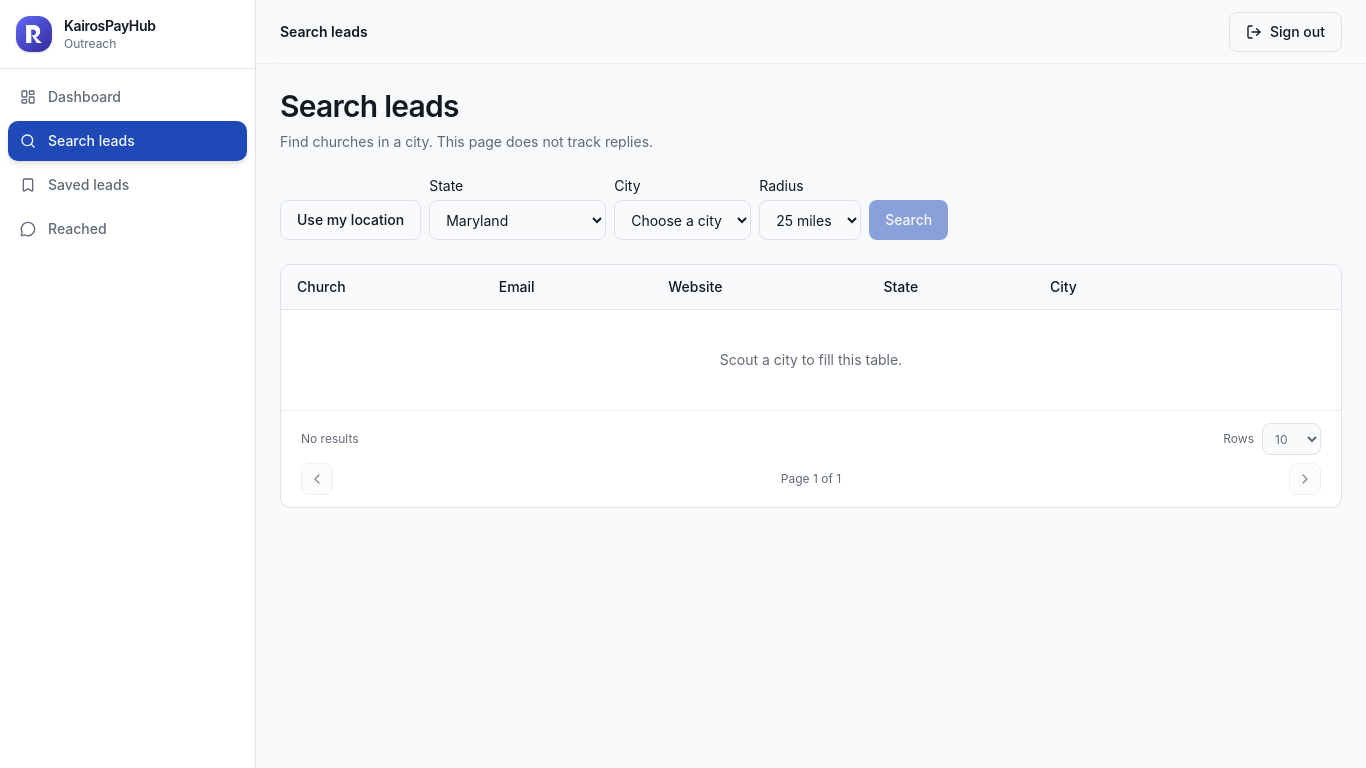
Test case: SuperadminSearchPage › searches into a paged table and opens a lead
expect the button "Use my location" is shown: met, box [280,200,421,240]
Select "Baltimore" in the dropdown labelled "City" at [683, 220], box [614,200,751,240]
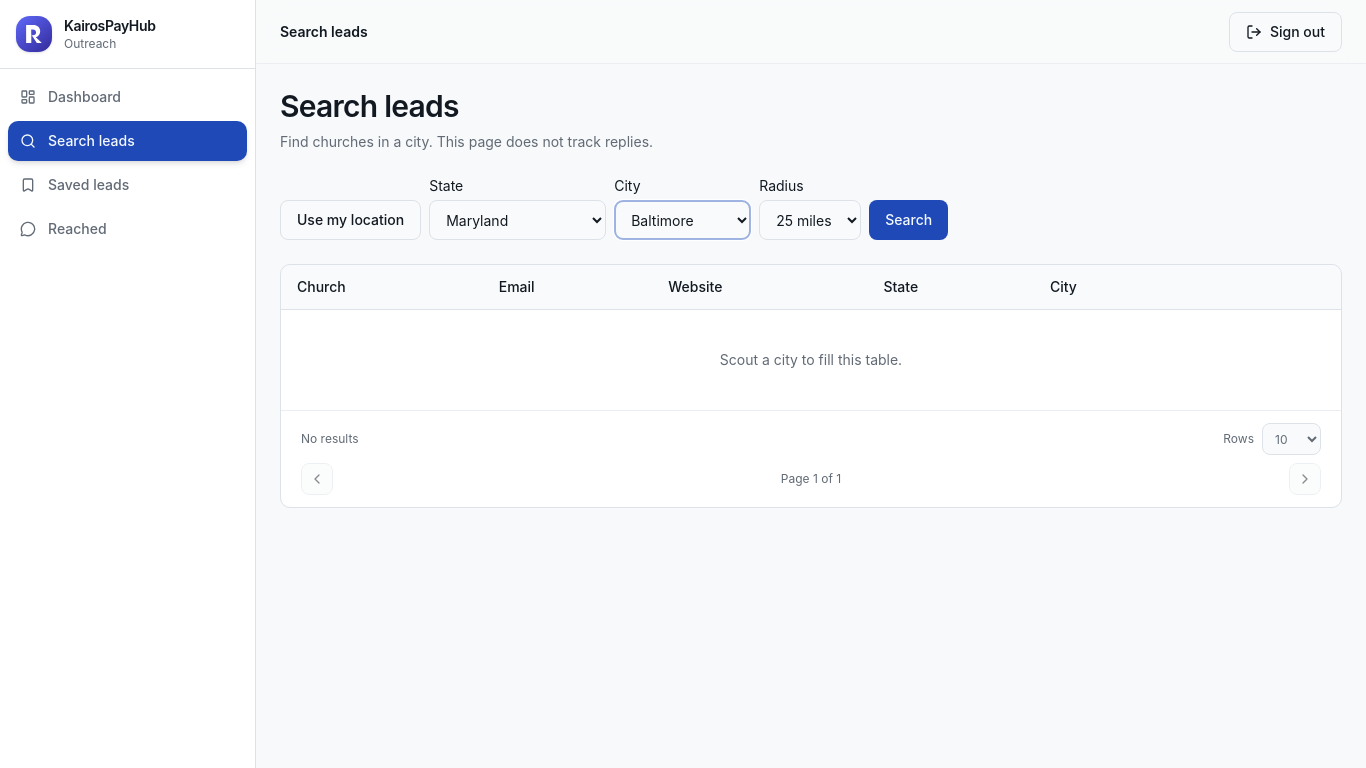
Select "10 miles" in the dropdown labelled "Radius" at [810, 220], box [759,200,861,240]
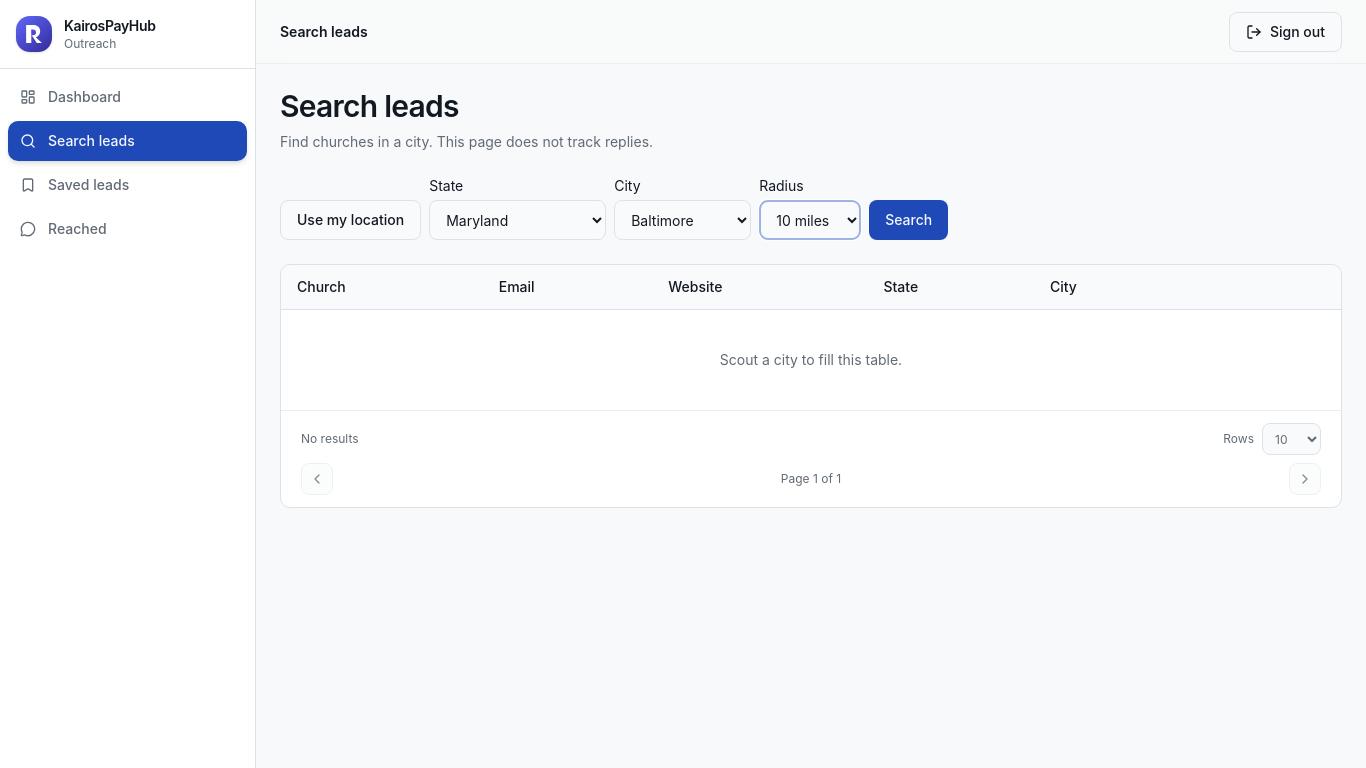
Click the button "Search".
click(909, 220)  # box [869,200,948,240]
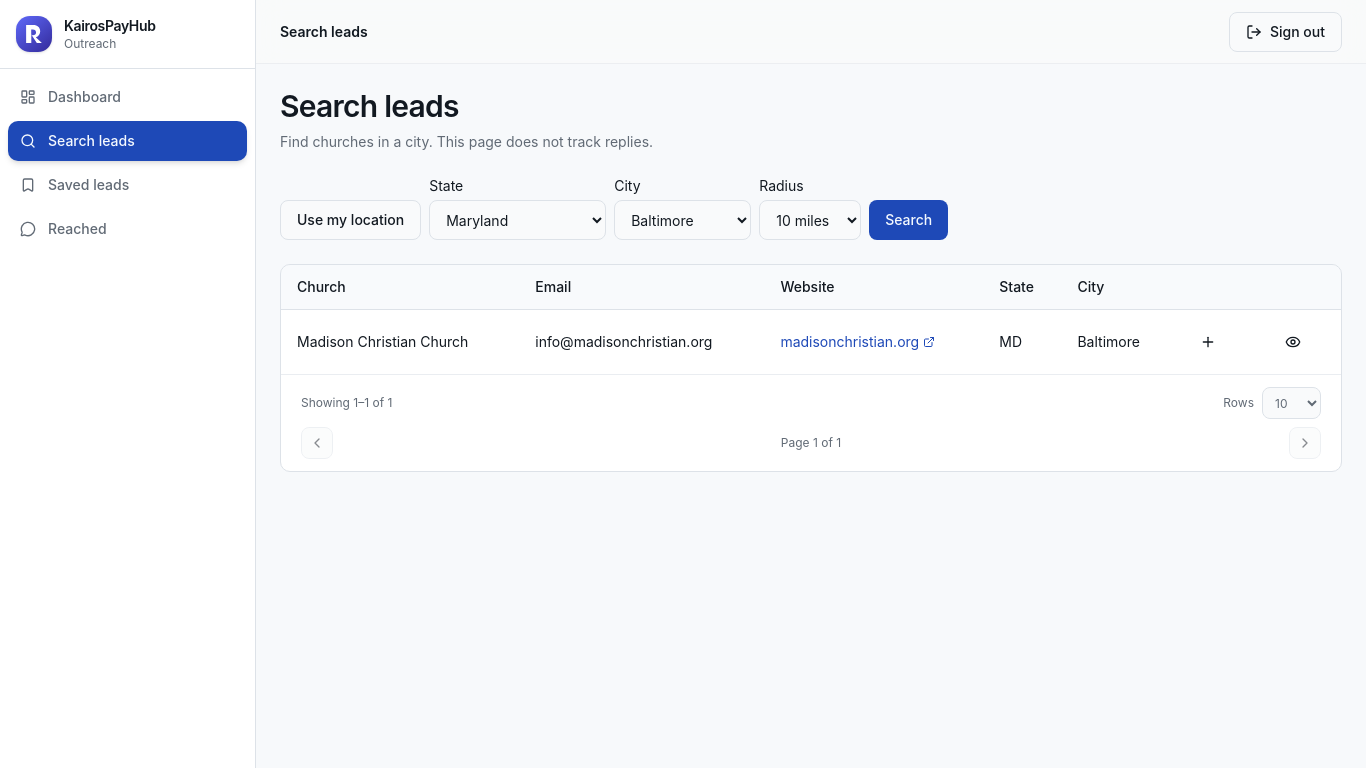
expect the column heading "City" is shown: met, box [1062,265,1172,310]
expect the button named "Save Madison Christian Church" is shown: met, box [1188,322,1228,362]
expect the text "info@madisonchristian.org" is shown: met, box [519,310,764,374]
Click the button named "View Madison Christian Church".
click(1292, 342)  # box [1272,322,1312,362]
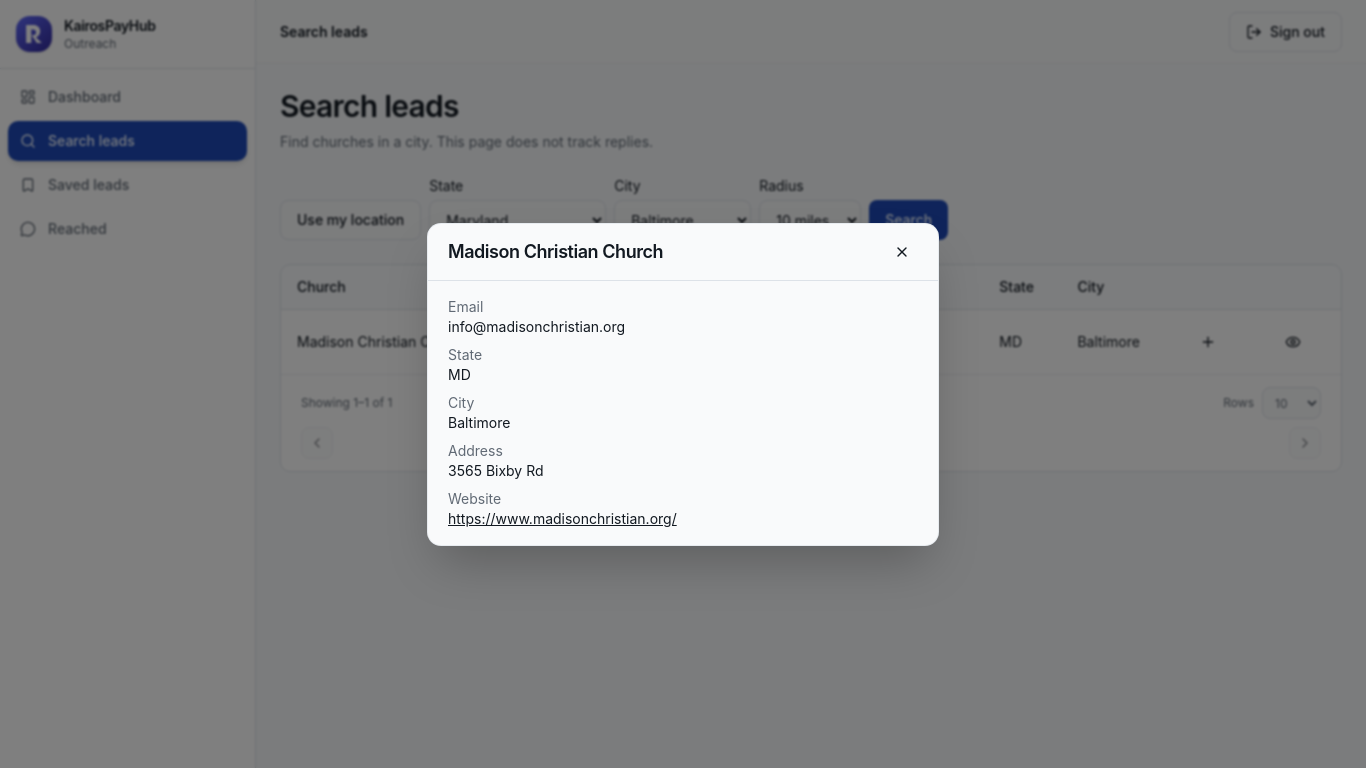
expect the text "3565 Bixby Rd" is shown: met, box [448,462,544,478]
